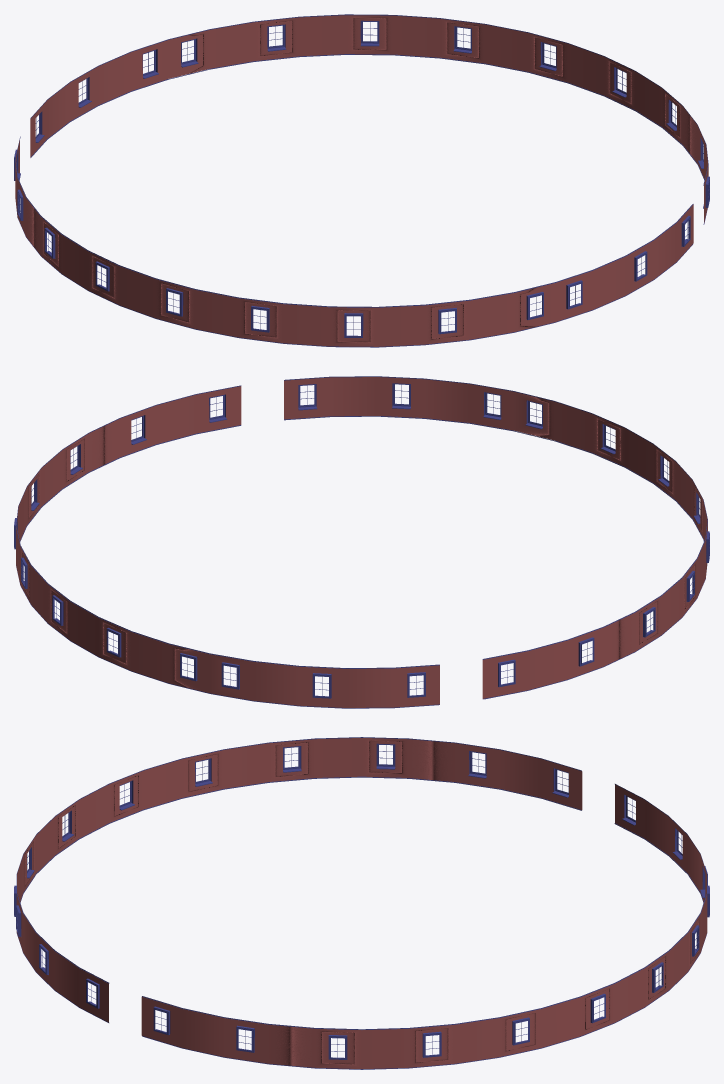
The model's file is Prop_CircularWallInt_01.fbx.
3 views of the same model, one above another, from view 1: azimuth 30°, elevation 25°; view 2: azimuth 150°, elevation 25°; view 3: azimuth 270°, elevation 25° (orthographic).
Visible parts, largest first — view 1: Prop_WallCircular_01; view 2: Prop_WallCircular_01; view 3: Prop_WallCircular_01.
Part boxes in pixels (left/top/right/bottom): Prop_WallCircular_01: left=14, top=14, right=709, bottom=347; Prop_WallCircular_01: left=14, top=376, right=709, bottom=708; Prop_WallCircular_01: left=14, top=737, right=709, bottom=1069.
Bounding box in the file's own units: 4676 × 300 × 4680.
